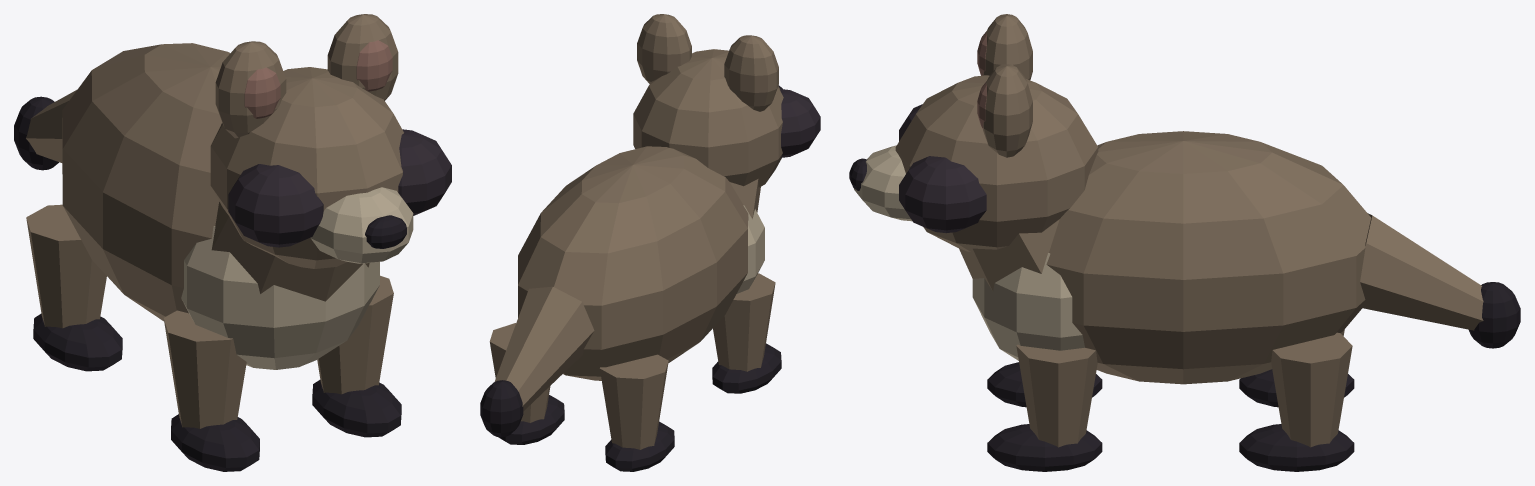
The model's file is raccoon_dog.fbx.
The picture shows the model from 3 angles, left to right: view 1: azimuth 30°, elevation 25°; view 2: azimuth 150°, elevation 25°; view 3: azimuth 270°, elevation 25°; orthographic projection. The views are drawn at different scales.
Parts seen in each view (by area): view 1: Body, ForeLeft, HindLeft, ForeRight, Tail; view 2: Body, Tail, HindLeft, ForeLeft, HindRight; view 3: Body, Tail, HindRight, ForeRight, ForeLeft, HindLeft.
Part boxes in pixels (left/top/right/bottom): Body: left=62, top=14, right=451, bottom=369; ForeLeft: left=163, top=310, right=259, bottom=471; HindLeft: left=26, top=204, right=122, bottom=371; ForeRight: left=312, top=275, right=401, bottom=437; Tail: left=14, top=89, right=77, bottom=170; Body: left=518, top=14, right=820, bottom=380; Tail: left=480, top=286, right=594, bottom=437; HindLeft: left=599, top=354, right=674, bottom=471; ForeLeft: left=712, top=273, right=781, bottom=393; HindRight: left=489, top=323, right=564, bottom=444; Body: left=849, top=14, right=1370, bottom=384; Tail: left=1359, top=213, right=1520, bottom=348; HindRight: left=1239, top=332, right=1354, bottom=471; ForeRight: left=987, top=344, right=1102, bottom=471; ForeLeft: left=987, top=362, right=1102, bottom=407; HindLeft: left=1239, top=329, right=1354, bottom=407.
Bounding box in the file's own units: 48 × 89.26 × 138.
